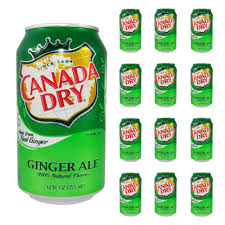Lata: (13, 22, 109, 208)
